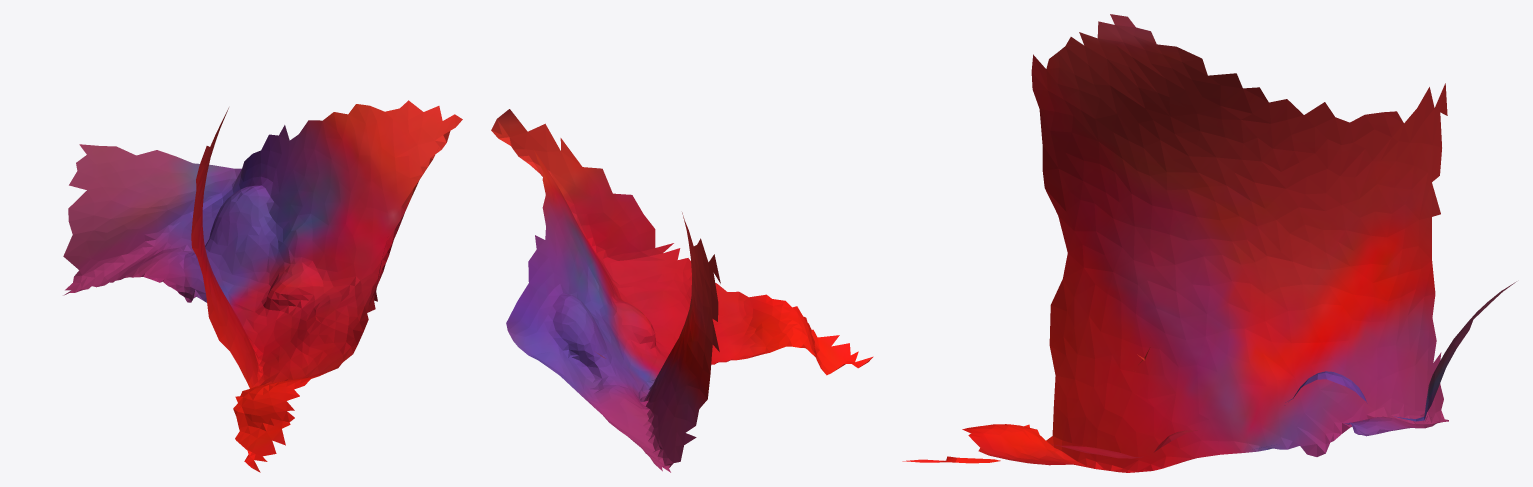
3 views of the same model, side by side, from view 1: azimuth 30°, elevation 25°; view 2: azimuth 150°, elevation 25°; view 3: azimuth 270°, elevation 25° (orthographic). The views are drawn at different scales.
Visible parts, largest first — view 1: tripo_mesh_045d8eb0-72ec-4624-9759-a425f321d17a; view 2: tripo_mesh_045d8eb0-72ec-4624-9759-a425f321d17a; view 3: tripo_mesh_045d8eb0-72ec-4624-9759-a425f321d17a.
Part boxes in pixels (box(x1,y1,x2,y2)): tripo_mesh_045d8eb0-72ec-4624-9759-a425f321d17a: box(63, 100, 462, 472); tripo_mesh_045d8eb0-72ec-4624-9759-a425f321d17a: box(491, 109, 873, 472); tripo_mesh_045d8eb0-72ec-4624-9759-a425f321d17a: box(902, 14, 1516, 472).
Bounding box in the file's own units: 0.134 × 0.1418 × 0.1544.
1 material, 1 textured.
